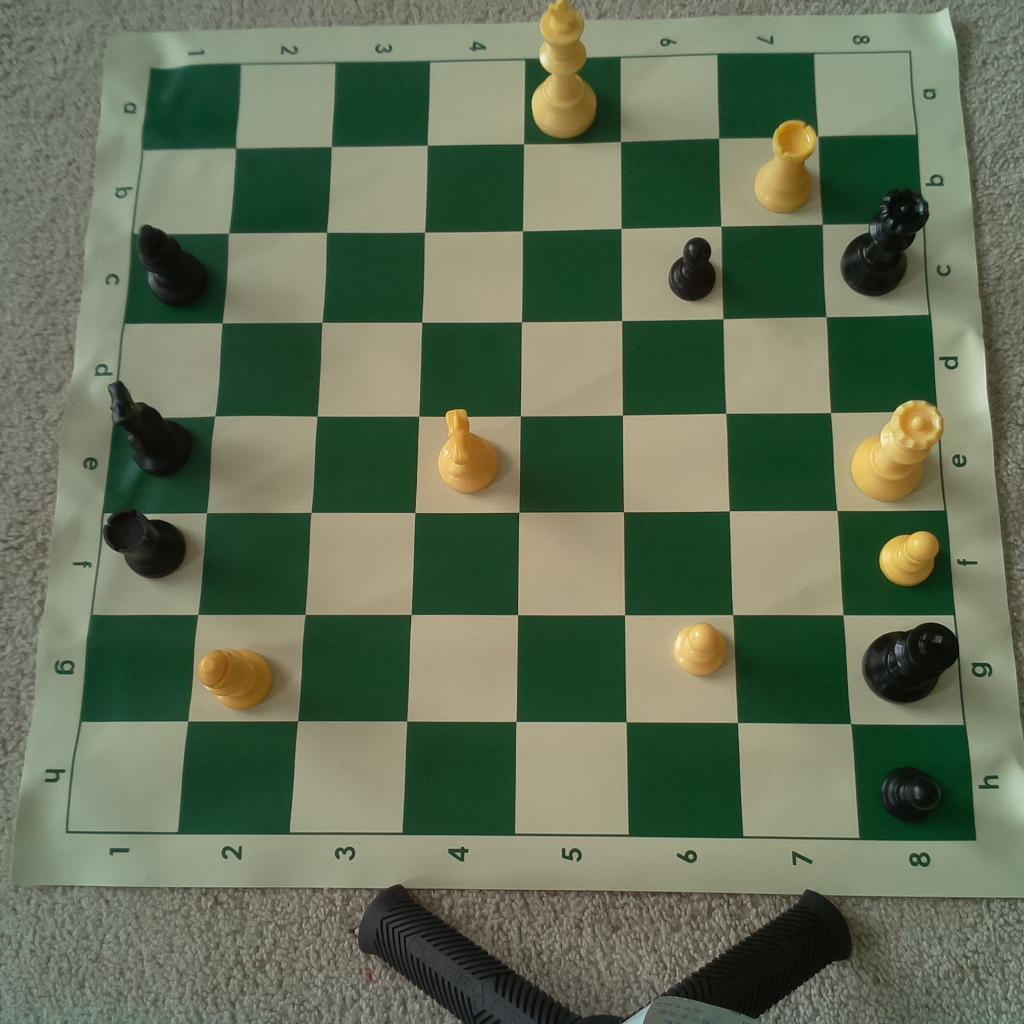black_bishop: (129, 218, 211, 313)
black_king: (855, 617, 960, 704)
black_knight: (99, 377, 201, 478)
black_pawn: (880, 764, 947, 827), (667, 234, 718, 304)
black_queen: (838, 184, 932, 300)
black_rook: (101, 501, 194, 584)
file_a: (142, 52, 918, 149)
file_b: (132, 136, 924, 235)
file_c: (121, 222, 928, 319)
file_d: (111, 313, 937, 421)
file_e: (101, 412, 944, 509)
file_f: (92, 512, 955, 615)
file_g: (81, 615, 966, 725)
file_h: (68, 721, 976, 840)
outline: (64, 53, 975, 839)
rank_1: (65, 62, 240, 832)
rank_2: (177, 61, 334, 836)
rank_3: (288, 61, 431, 836)
rank_4: (401, 57, 524, 834)
rank_5: (511, 57, 629, 834)
rank_6: (620, 54, 746, 839)
rank_7: (715, 56, 860, 836)
rank_8: (815, 54, 977, 839)
white_bishop: (193, 643, 280, 714)
white_king: (524, 1, 601, 140)
white_knight: (428, 404, 503, 496)
white_pawn: (876, 522, 942, 590), (671, 617, 733, 682)
white_queen: (849, 393, 949, 502)
white_rook: (750, 114, 820, 214)
